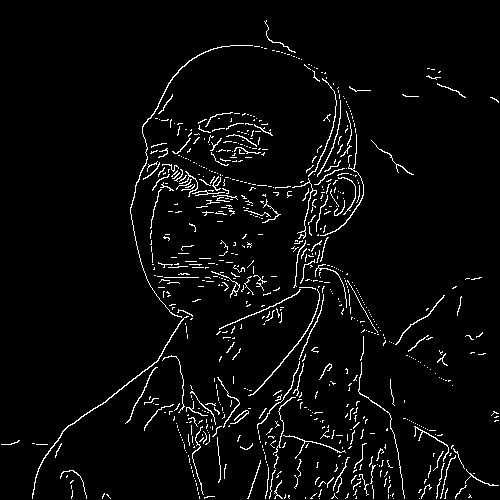mask: (119, 156, 332, 328)
